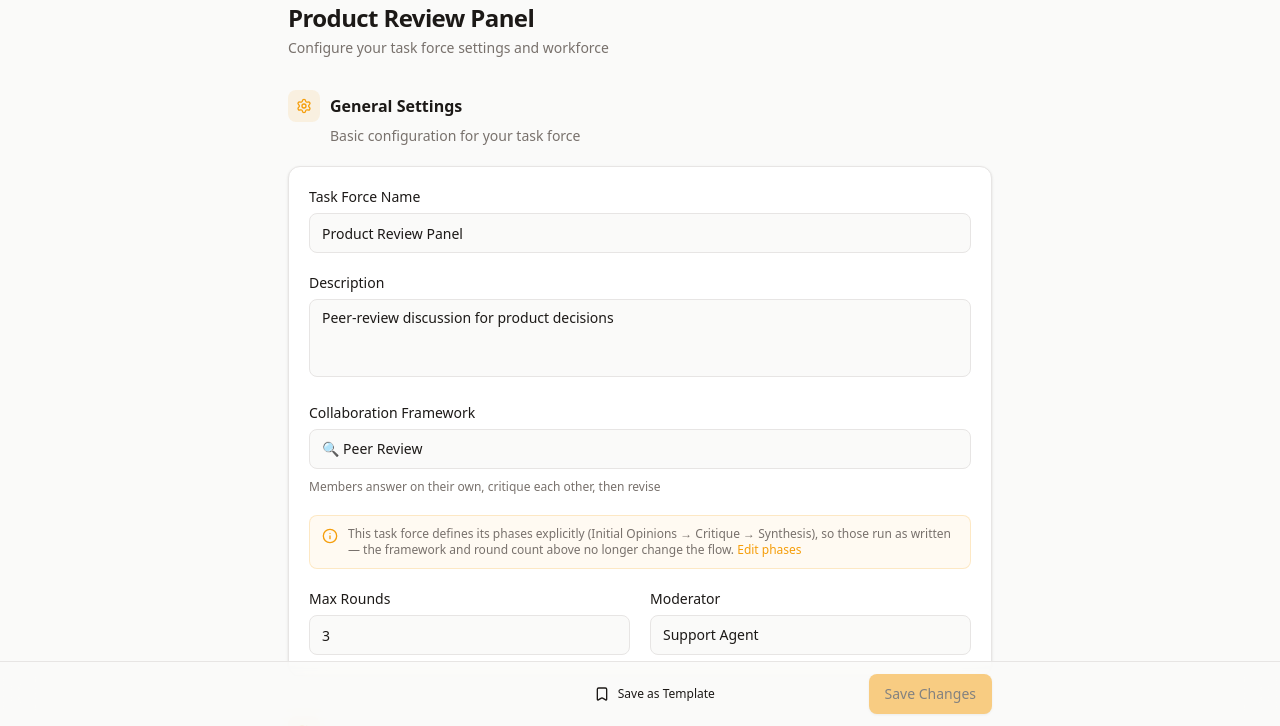
Test case: WorkforceSettings — group collaboration parity › moderator-less phases › warns as soon as the moderator is cleared
The width and height of the screenshot is (1280, 726).
Expected: the field showing "Product Review Panel" is shown, [309,213,971,253]
Select "None" in the dropdown labelled "Moderator" at (810, 635), box [650,615,971,655]
(page scrolled)
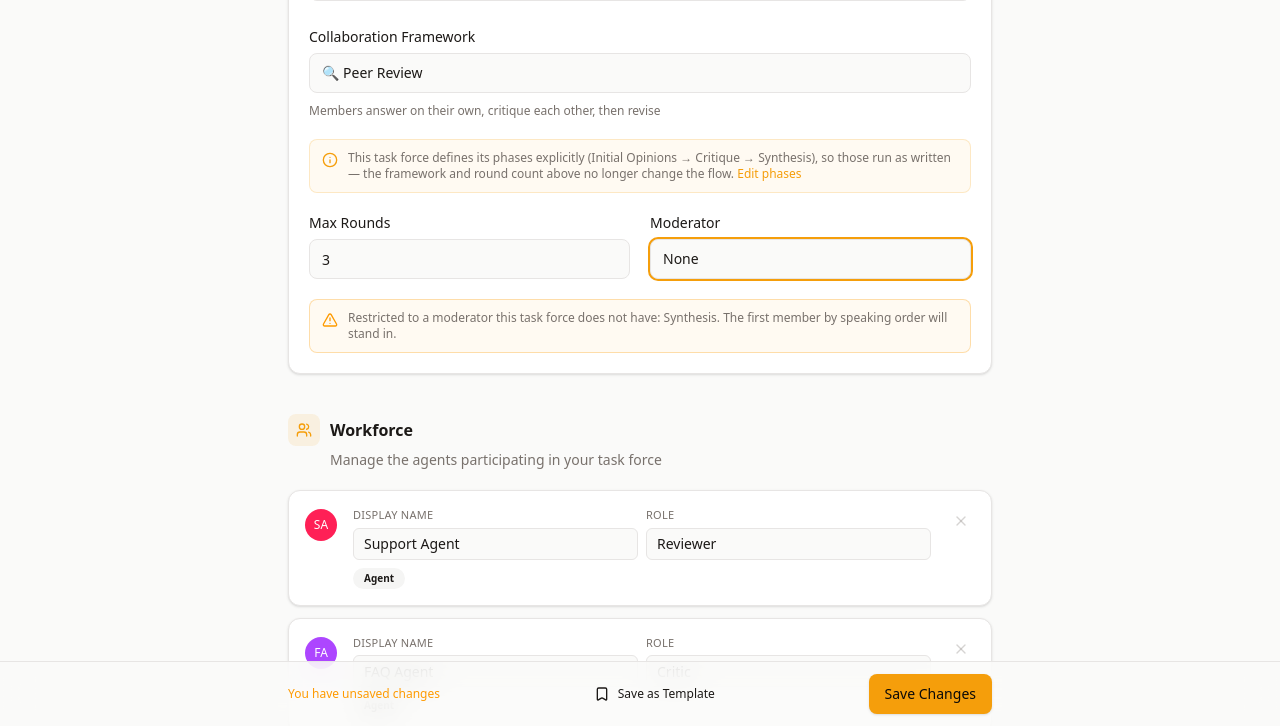
Expected: the element with test id "moderatorless-phase-warning" shows "Synthesis", [348,309,947,342]
